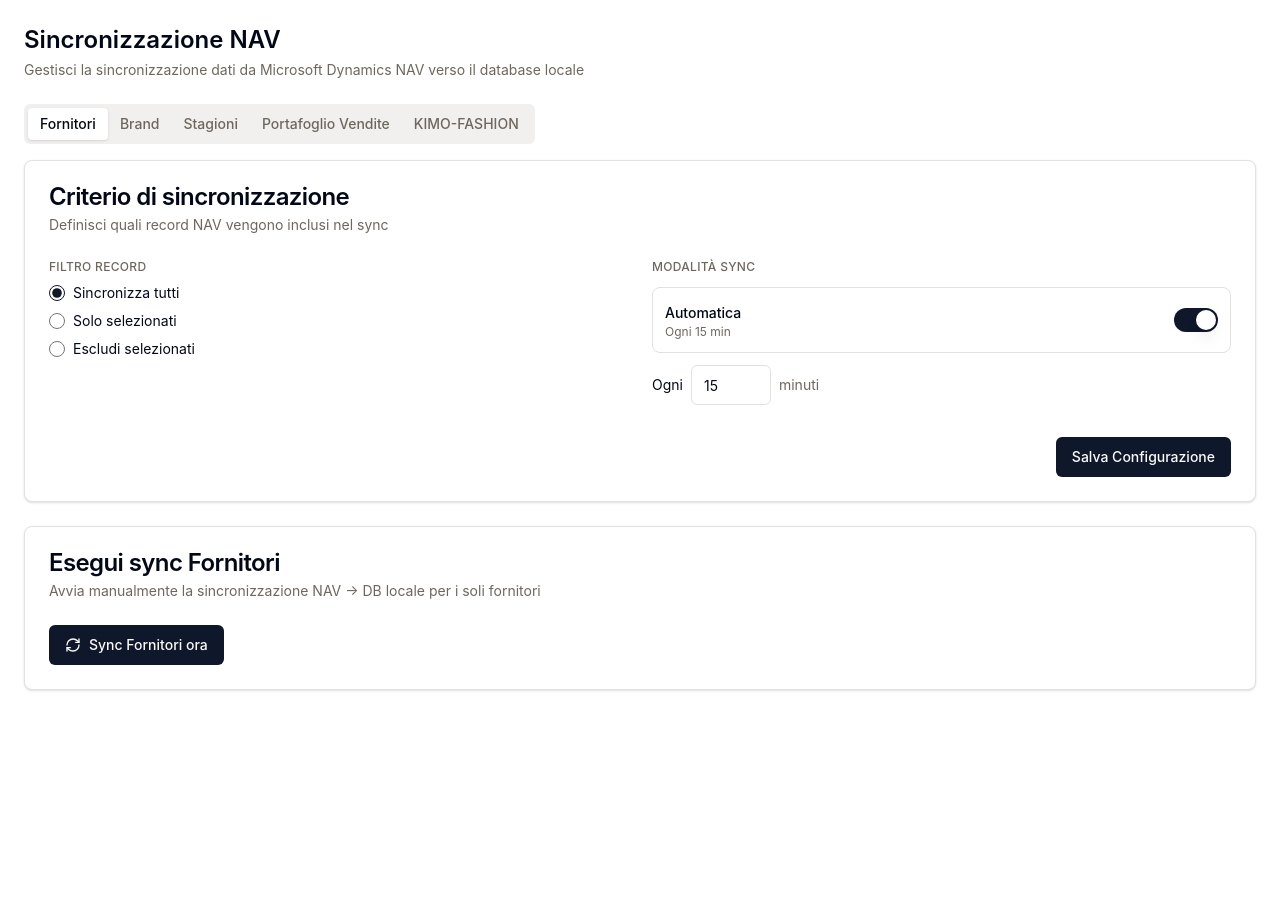
Test: NAV sync "Portafoglio Vendite": the stored schedule fills the form, every action enabled
Click the tab "Portafoglio Vendite": (326, 124) [250,108,402,140]
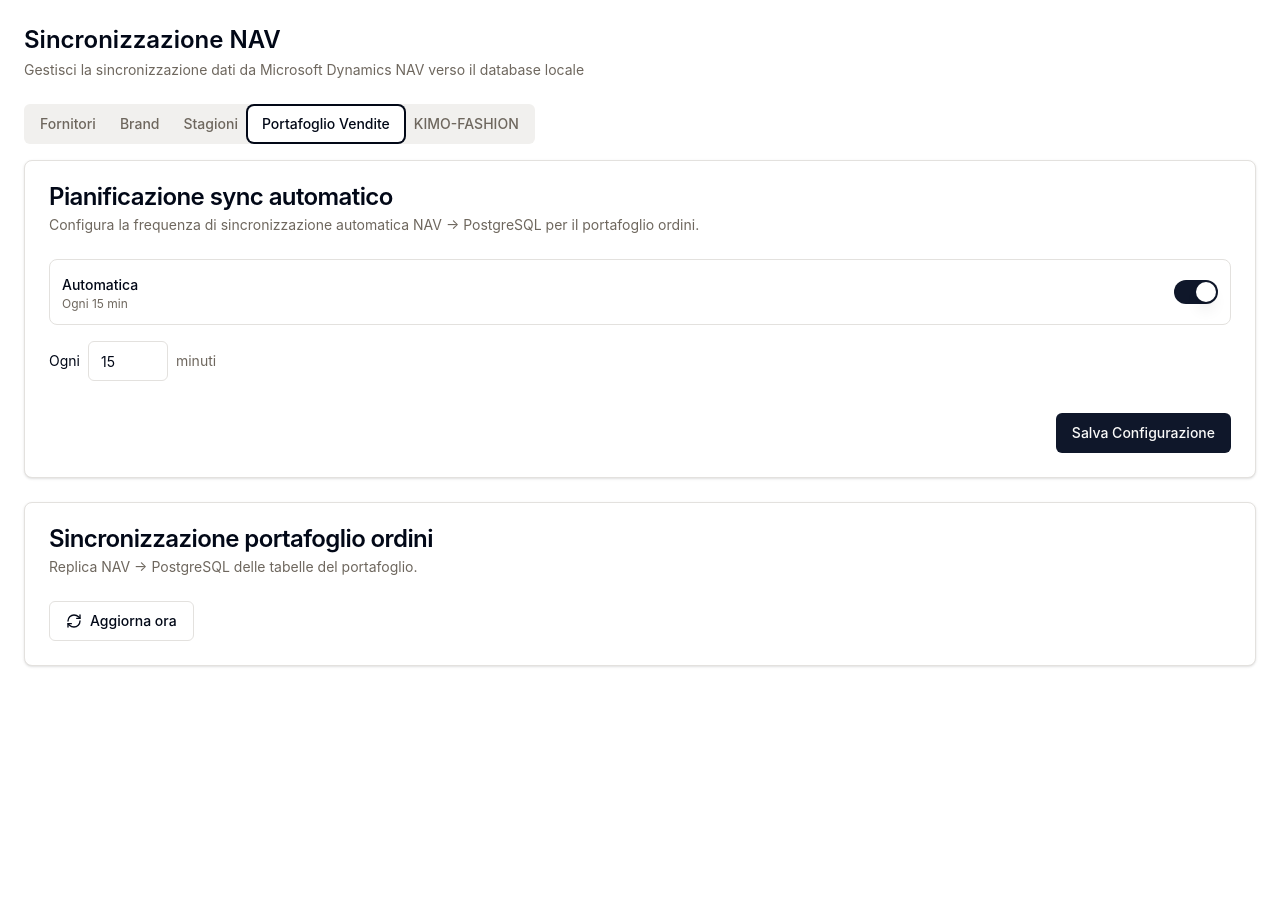
expect the text "Ogni 15 min" is shown: met, box [62,296,138,312]
expect the switch named "Automatica" is enabled: met, box [1174,280,1218,304]
